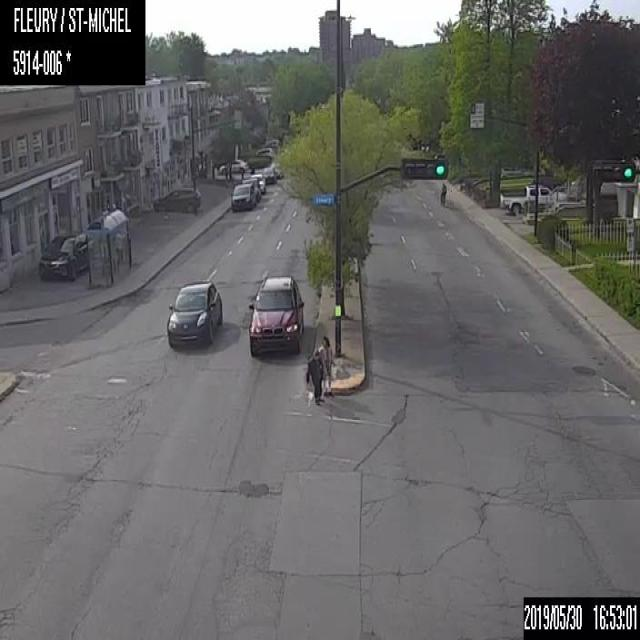pedestrian: (302, 348, 324, 407), (317, 333, 335, 398), (439, 181, 447, 208)
vehicle: (247, 272, 306, 356), (165, 280, 223, 349), (37, 226, 95, 285), (494, 182, 568, 215), (152, 184, 203, 214), (229, 181, 257, 212), (216, 157, 247, 172), (246, 172, 266, 192), (254, 146, 274, 160), (262, 166, 276, 182), (271, 162, 282, 179)
